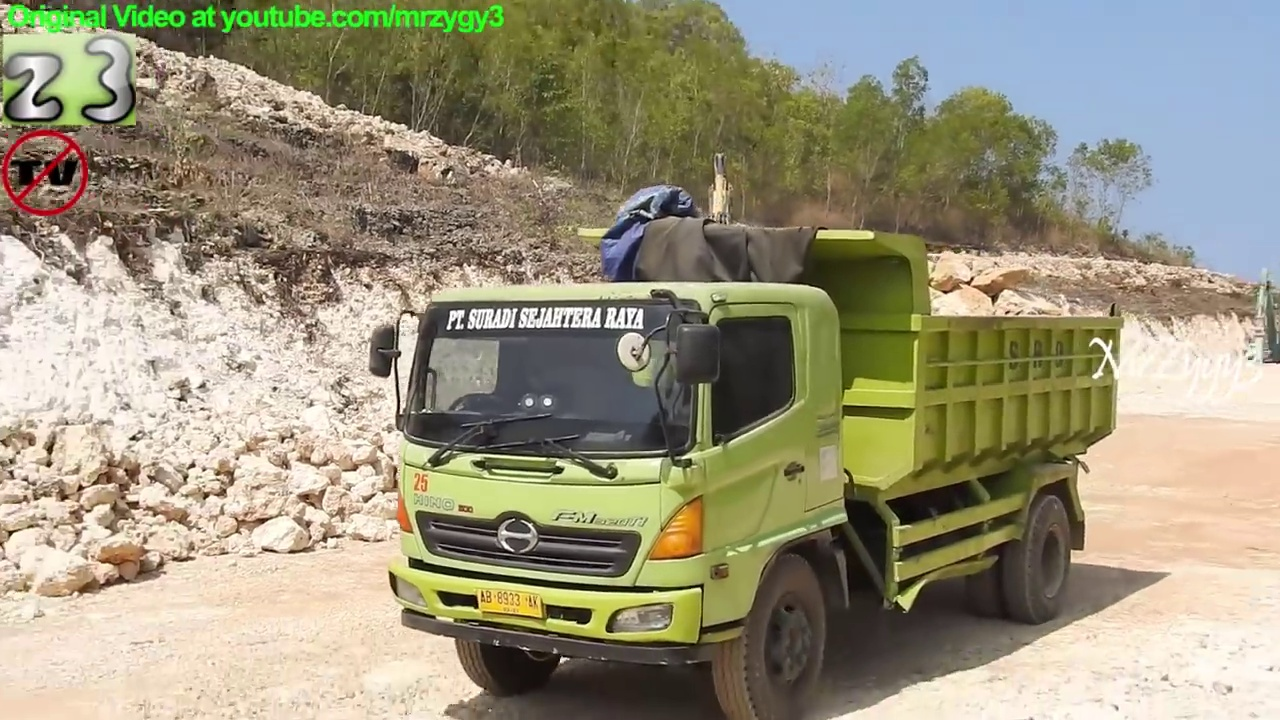excavator: (582, 147, 867, 475), (1237, 265, 1280, 378)
truck: (361, 217, 1134, 720)
